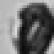correct: (9, 4, 54, 54)
